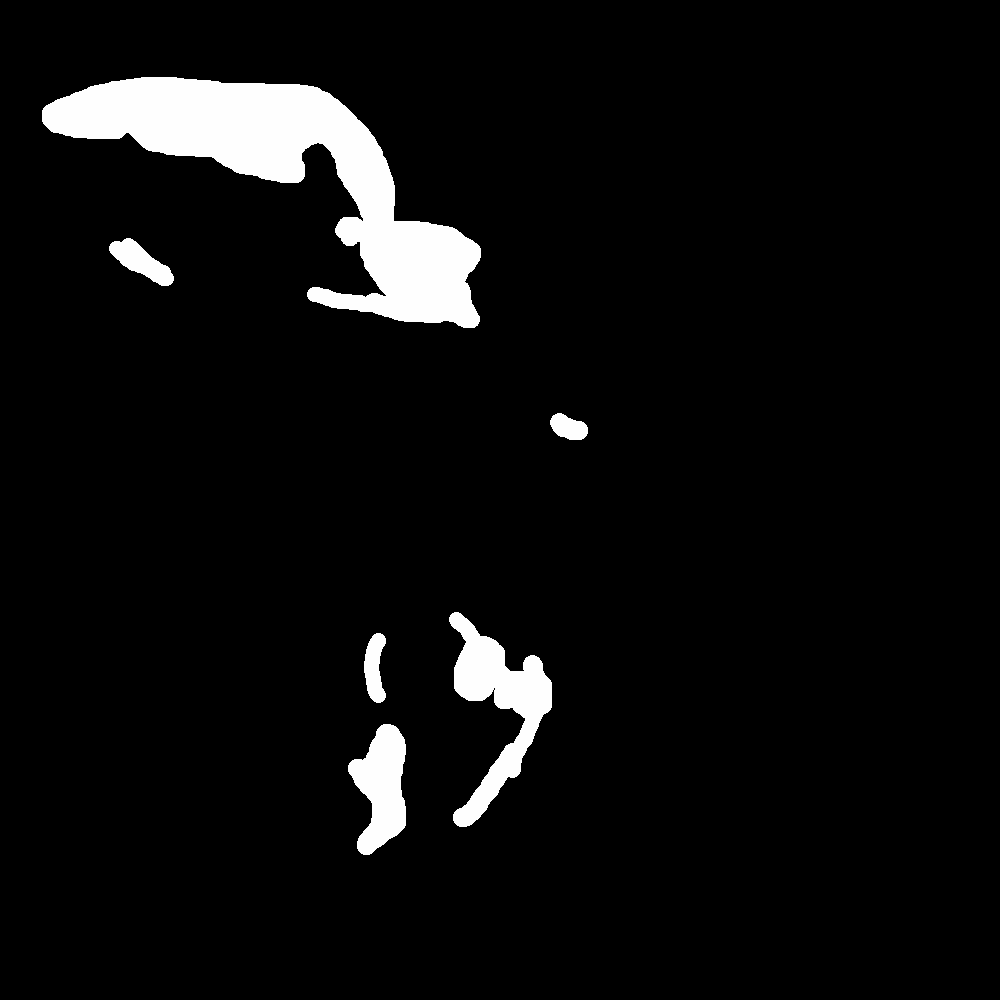illegal: (53, 74, 481, 327), (452, 604, 552, 708), (462, 731, 529, 818), (362, 731, 407, 849), (360, 629, 391, 708)
